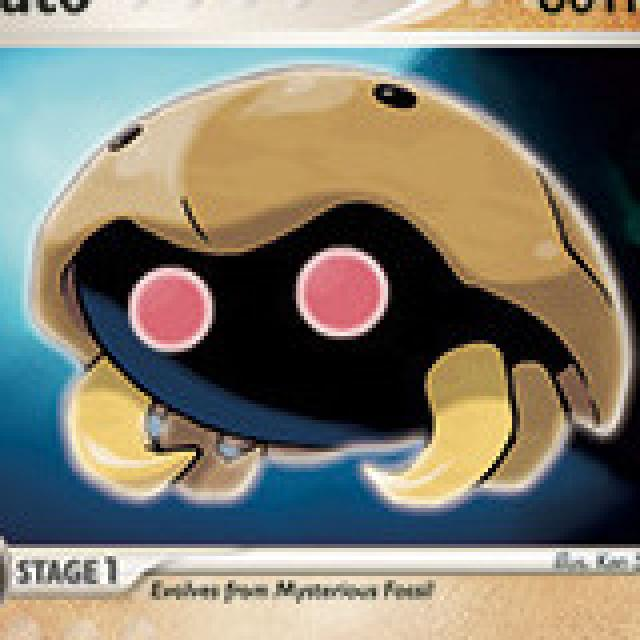Kabuto: (19, 69, 628, 503)
